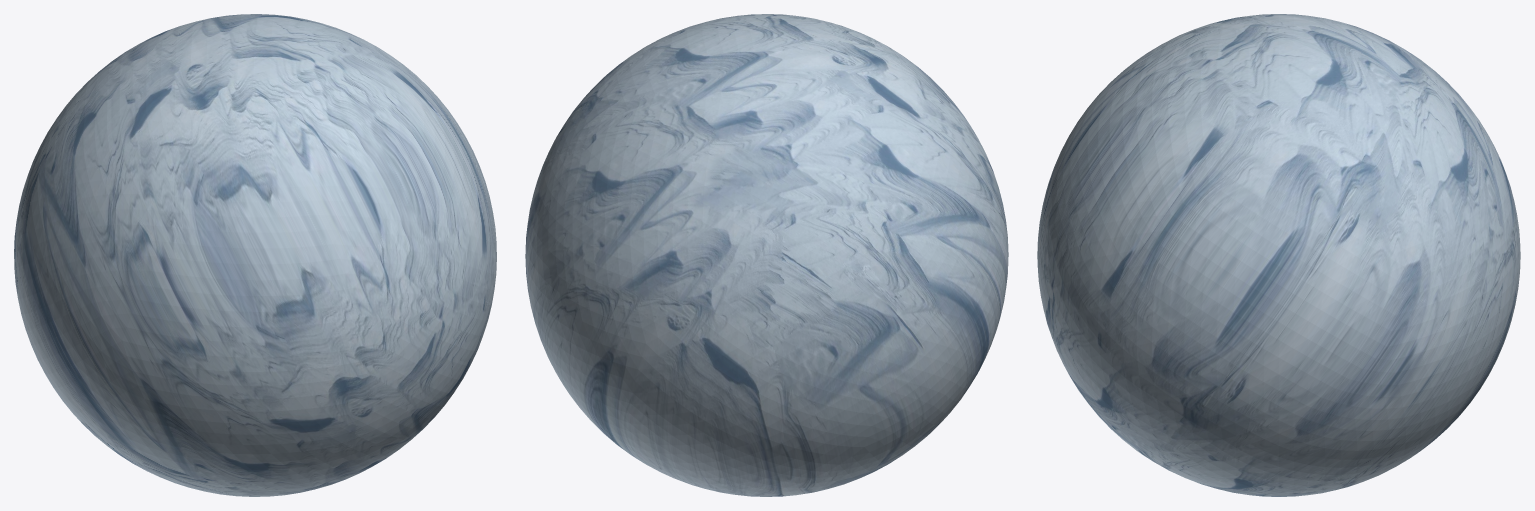
3 renders of one model, left to right at view 1: azimuth 30°, elevation 25°; view 2: azimuth 150°, elevation 25°; view 3: azimuth 270°, elevation 25°, orthographic.
Visible parts, largest first — view 1: Object.1; view 2: Object.1; view 3: Object.1.
Boxes of the visible parts, left/top/right/bottom form: Object.1: left=14, top=14, right=496, bottom=496; Object.1: left=525, top=14, right=1008, bottom=496; Object.1: left=1037, top=14, right=1520, bottom=496.
Size of the model in its own units: 40 by 40 by 40.
